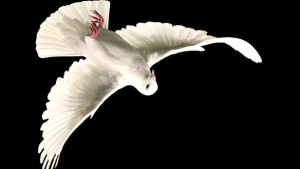pigeon: (33, 0, 264, 169)
